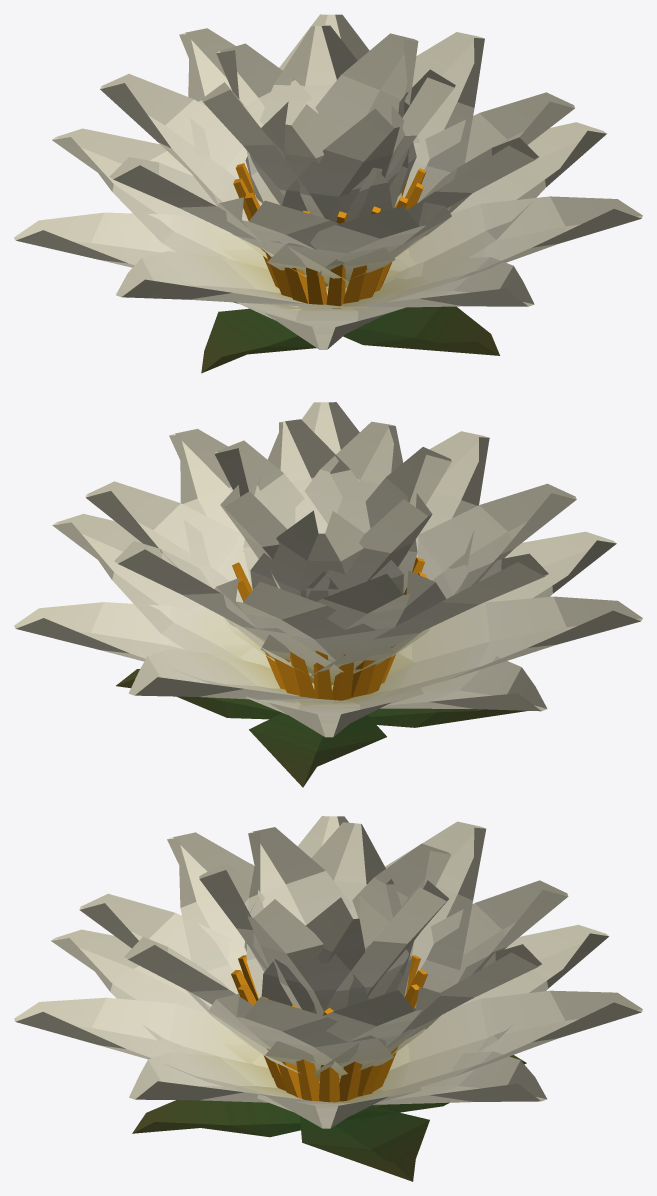
Rendered from waterlily-flower-white.glb.
3 renders of one model, top to bottom at view 1: azimuth 30°, elevation 25°; view 2: azimuth 150°, elevation 25°; view 3: azimuth 270°, elevation 25°, orthographic.
Parts seen in each view (by area): view 1: waterlily-flower-white-petals, waterlily-flower-white-sepals, waterlily-flower-white-stamens; view 2: waterlily-flower-white-petals, waterlily-flower-white-sepals, waterlily-flower-white-stamens; view 3: waterlily-flower-white-petals, waterlily-flower-white-sepals, waterlily-flower-white-stamens.
Boxes of the visible parts, x1,y1,x2,y2 form: waterlily-flower-white-petals: (14,14,642,349); waterlily-flower-white-sepals: (201,302,499,373); waterlily-flower-white-stamens: (233,163,426,308); waterlily-flower-white-petals: (14,402,642,737); waterlily-flower-white-sepals: (116,669,528,787); waterlily-flower-white-stamens: (232,551,427,700); waterlily-flower-white-petals: (14,816,642,1128); waterlily-flower-white-sepals: (132,1055,526,1181); waterlily-flower-white-stamens: (231,955,427,1102).
Size of the model in its own units: 0.1735 by 0.0808 by 0.1746.
